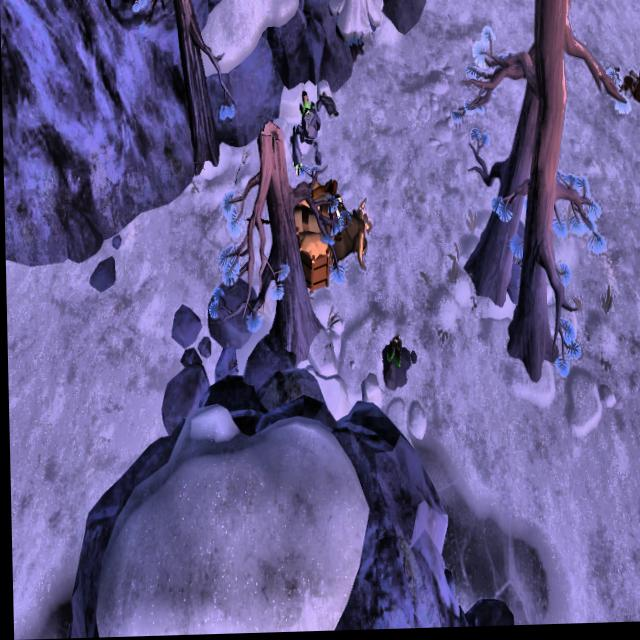ore_t3: (384, 334, 401, 372)
